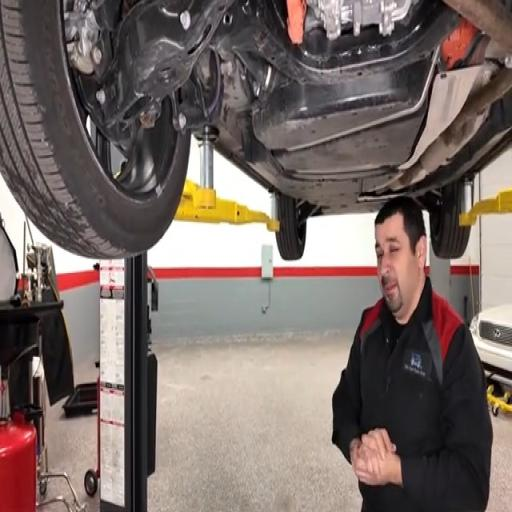bumper: (471, 329, 511, 374)
emblem: (494, 329, 500, 338)
grille: (480, 322, 511, 345)
headlight: (469, 315, 479, 334)
hood: (479, 303, 511, 328)
tire: (0, 0, 190, 258), (430, 183, 471, 258), (276, 195, 307, 260)
wheel: (0, 0, 190, 257)
